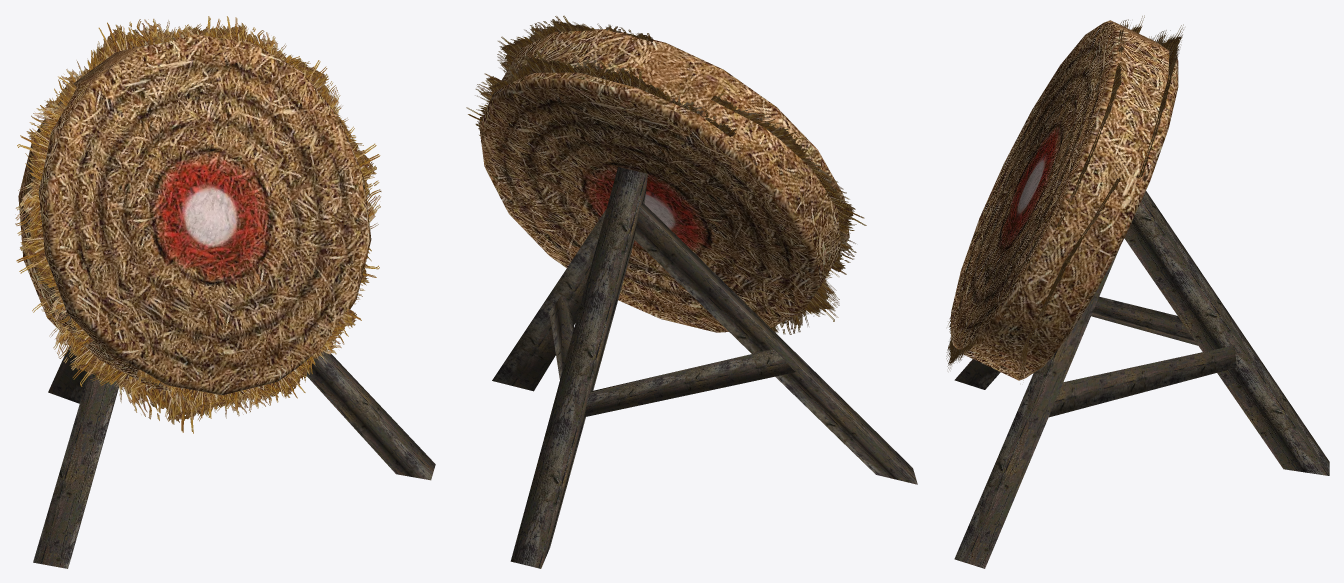
File: GS_FURNITURE_ARCHERY_RANGE_01_GALI.glb
3 views of the same model, side by side, from view 1: azimuth 30°, elevation 25°; view 2: azimuth 150°, elevation 25°; view 3: azimuth 270°, elevation 25° (orthographic). The views are drawn at different scales.
Visible parts, largest first — view 1: Mesh; view 2: Mesh; view 3: Mesh.
Boxes of the visible parts, bbox=[...] form: Mesh: bbox=[15, 16, 435, 568]; Mesh: bbox=[466, 15, 917, 568]; Mesh: bbox=[946, 15, 1329, 568].
Bounding box in the file's own units: 1.33 × 1.37 × 1.09.
2 materials, 2 textured.
